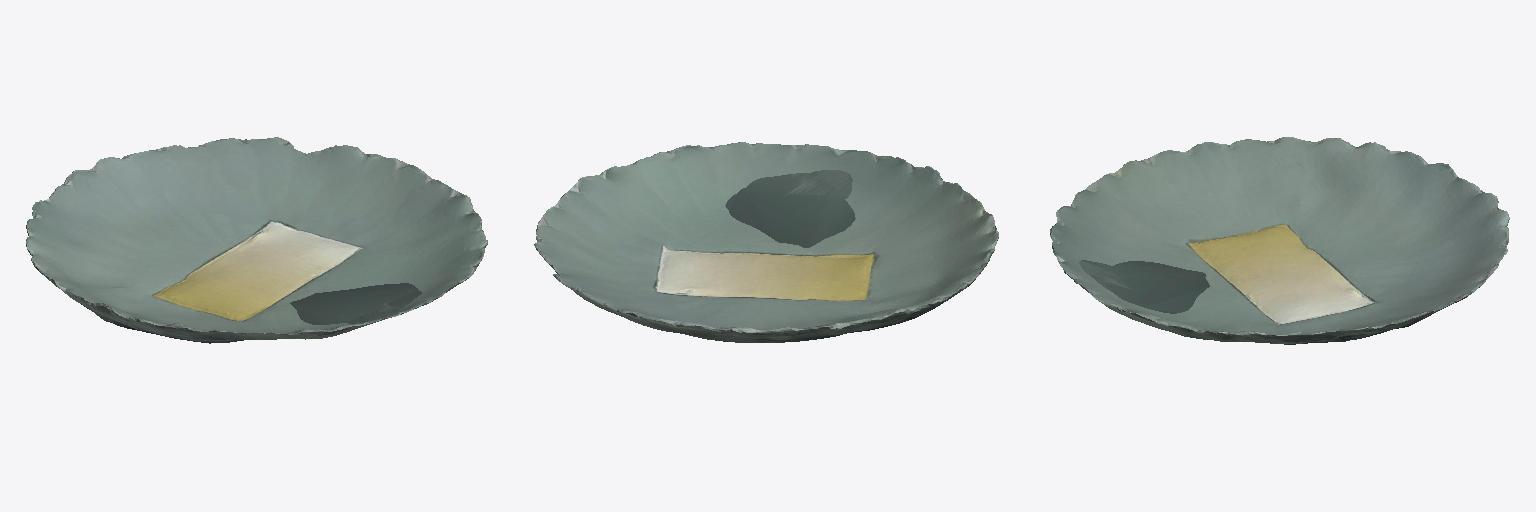
3 renders of one model, left to right at view 1: azimuth 30°, elevation 25°; view 2: azimuth 150°, elevation 25°; view 3: azimuth 270°, elevation 25°, orthographic.
Parts seen in each view (by area): view 1: Mesh; view 2: Mesh; view 3: Mesh.
Part boxes in pixels (x1,y1,x2,y2): Mesh: (26, 137, 487, 343); Mesh: (534, 142, 998, 342); Mesh: (1050, 137, 1509, 344).
Size of the model in its own units: 0.1626 by 0.0198 by 0.1619.
Materials: 1 (1 with a texture image).